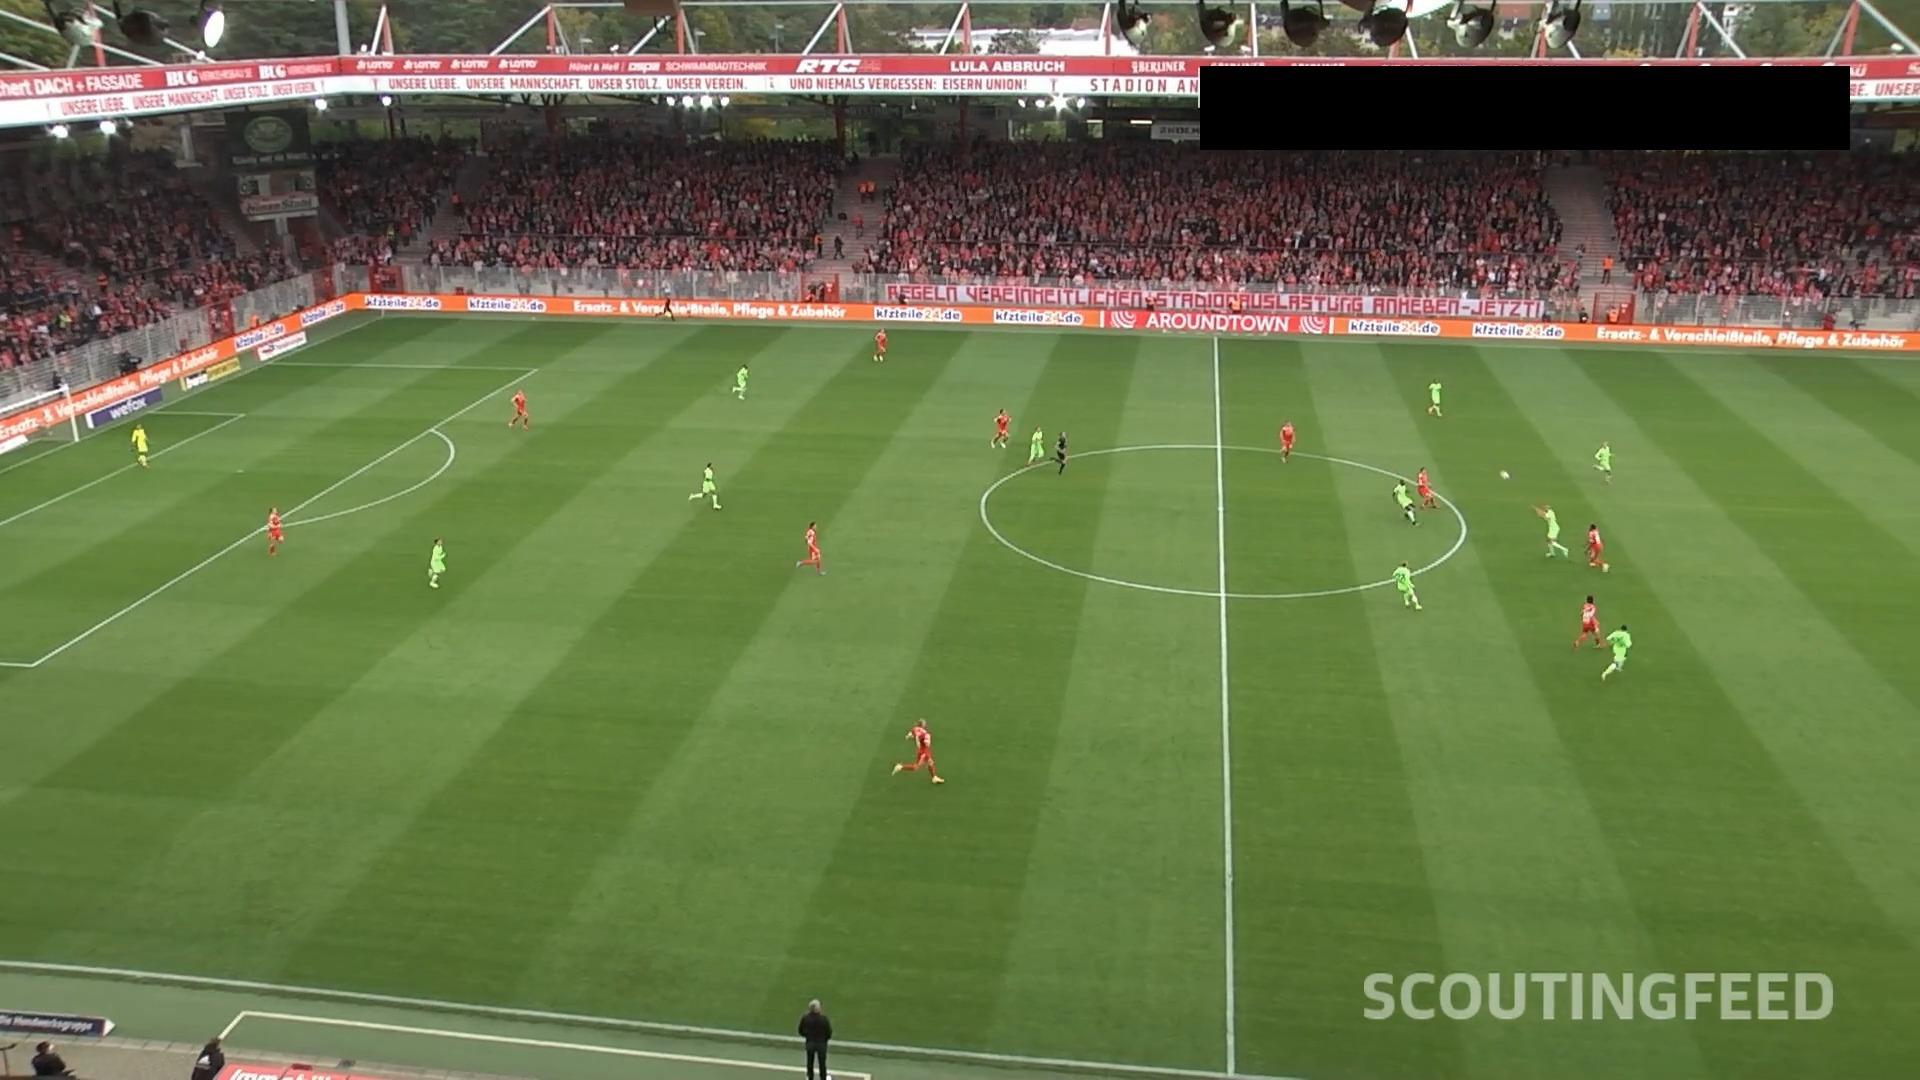ball: (1499, 469, 1511, 480)
